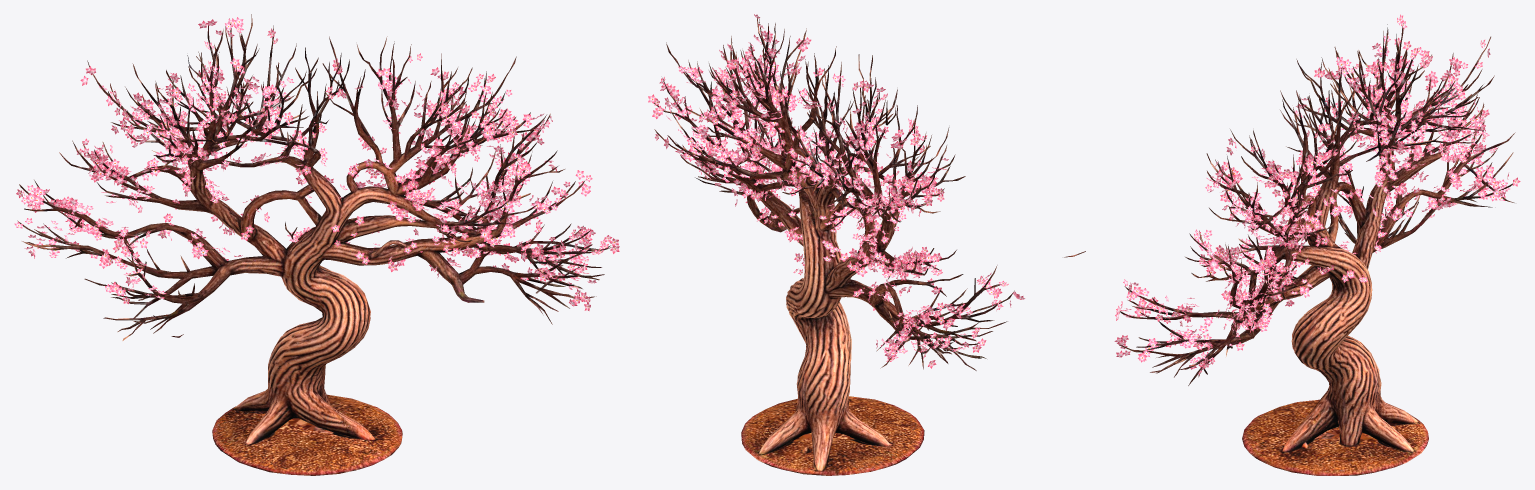
The model's file is t_peach.glb.
The picture shows the model from 3 angles, left to right: view 1: azimuth 30°, elevation 25°; view 2: azimuth 150°, elevation 25°; view 3: azimuth 270°, elevation 25°; orthographic projection. The views are drawn at different scales.
Visible parts, largest first — view 1: t_peach; view 2: t_peach; view 3: t_peach.
Part boxes in pixels (box(x1,y1,x2,y2)): t_peach: box(14, 14, 619, 475); t_peach: box(648, 14, 1085, 475); t_peach: box(1114, 14, 1520, 475).
Size of the model in its own units: 5.92 by 5.06 by 4.75.
2 materials, 2 textured.
